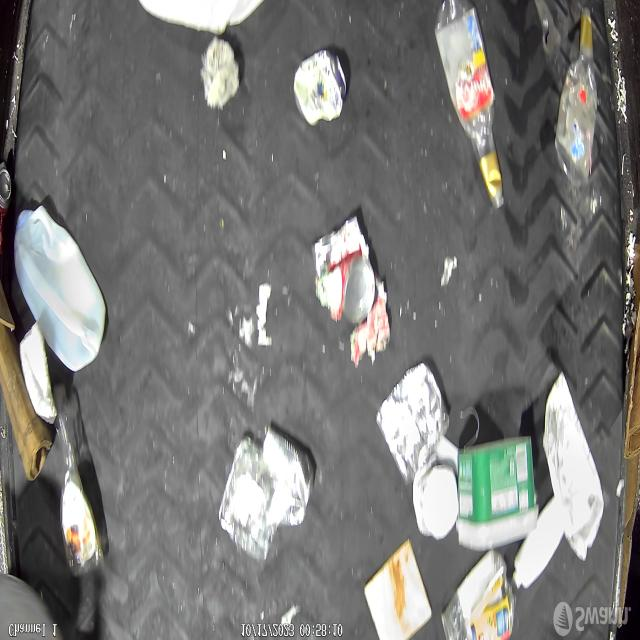can: (376, 362, 450, 488), (264, 426, 314, 526), (292, 50, 348, 127), (331, 258, 377, 326), (0, 161, 11, 259)
milk_jug: (16, 204, 107, 378), (132, 0, 278, 35)
plastic_bottle: (434, 0, 504, 211), (52, 388, 104, 576), (554, 7, 598, 187)
